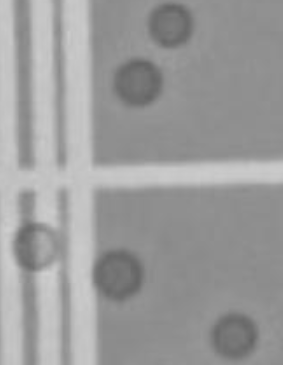cell: (87, 242, 150, 306), (4, 217, 64, 277), (107, 53, 165, 114), (207, 307, 261, 363), (141, 1, 198, 54)
